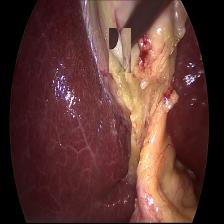Hook: (109, 28, 131, 73)
